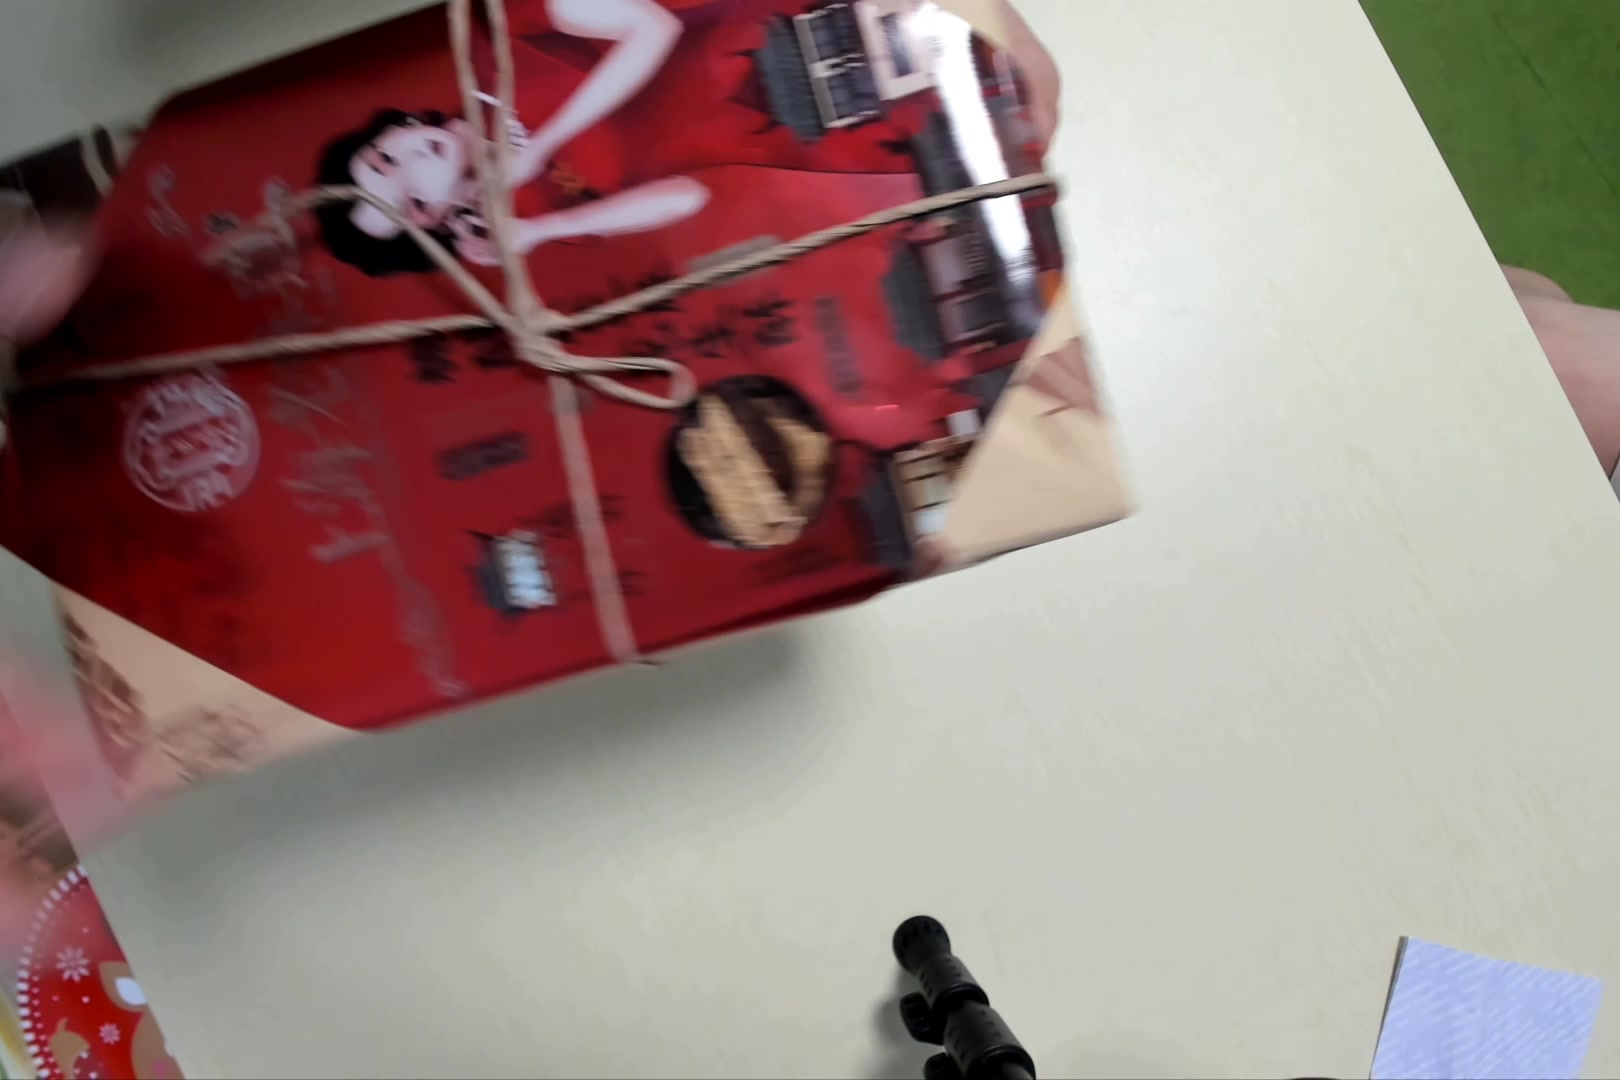BiscuitsCrackersCookies_400-499g_NonHalal_NonHealthy: (4, 10, 1160, 802)
